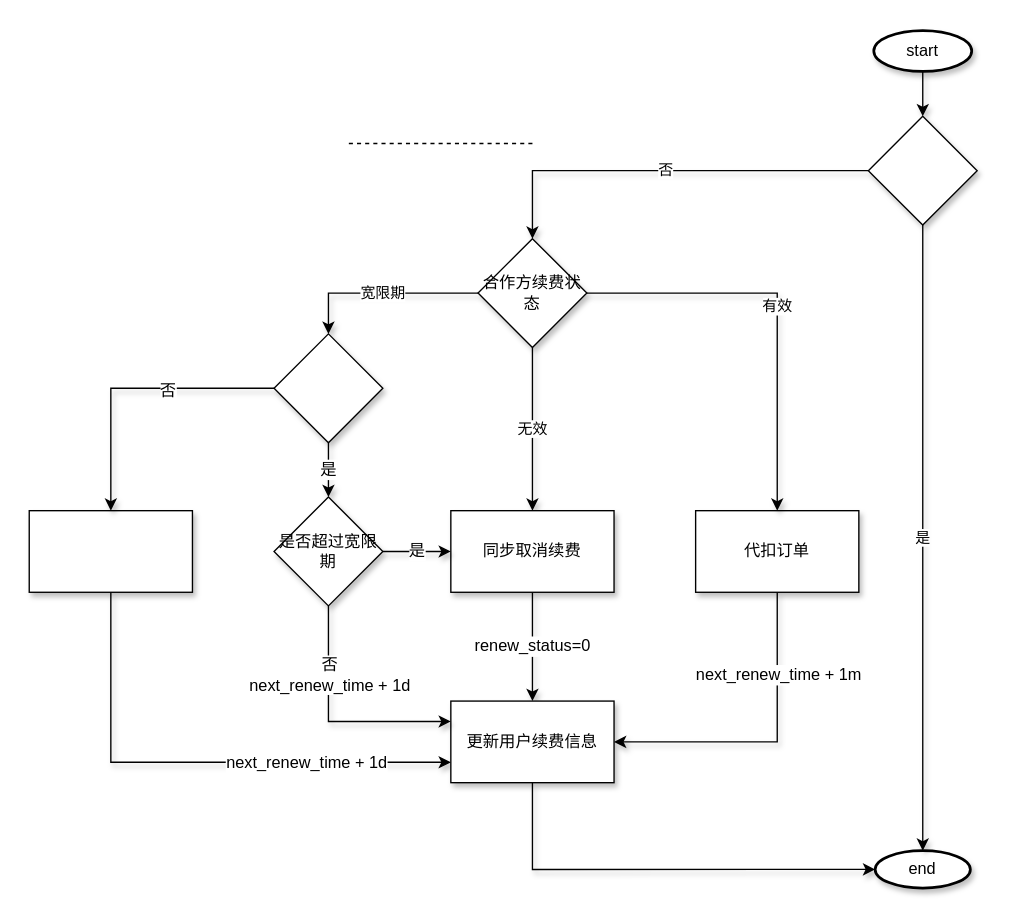
The diagram is 1009 pixels wide and 922 high, and some of its shapes have lost their labels. Each missing label, with the centre of its shape:
免费订单: pixel 111 553
是否生成宽限期订单: pixel 329 389
重复续费？: pixel 923 172
